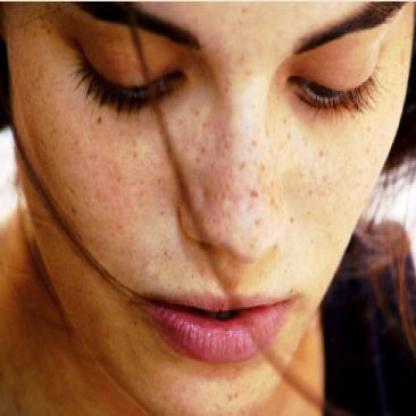darkspot: (215, 96, 286, 234), (106, 103, 206, 161), (138, 172, 178, 262), (56, 94, 88, 204), (296, 130, 336, 207), (219, 383, 245, 410)
